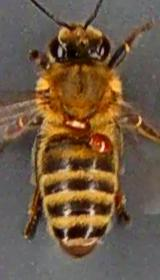varroa_mite: (77, 120, 116, 158), (54, 109, 96, 135)
